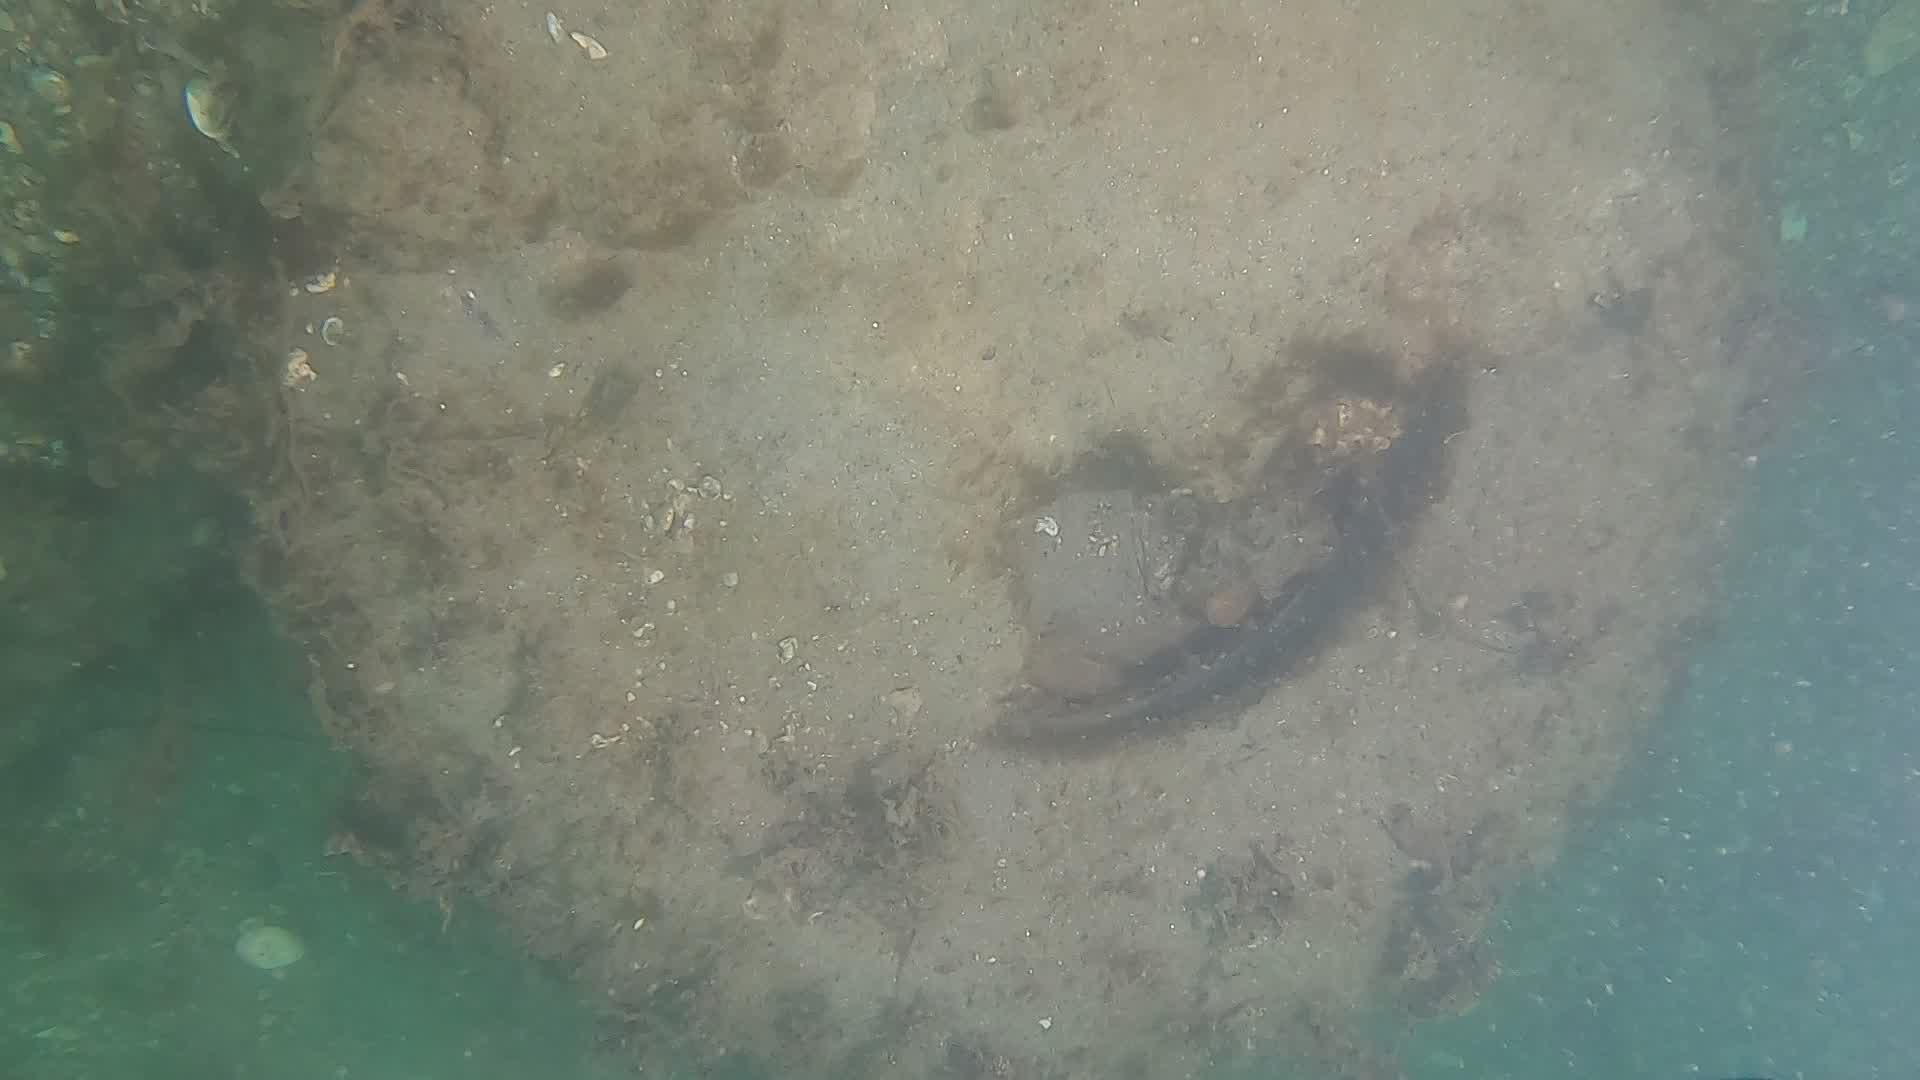tire: (568, 220, 1766, 1080)
